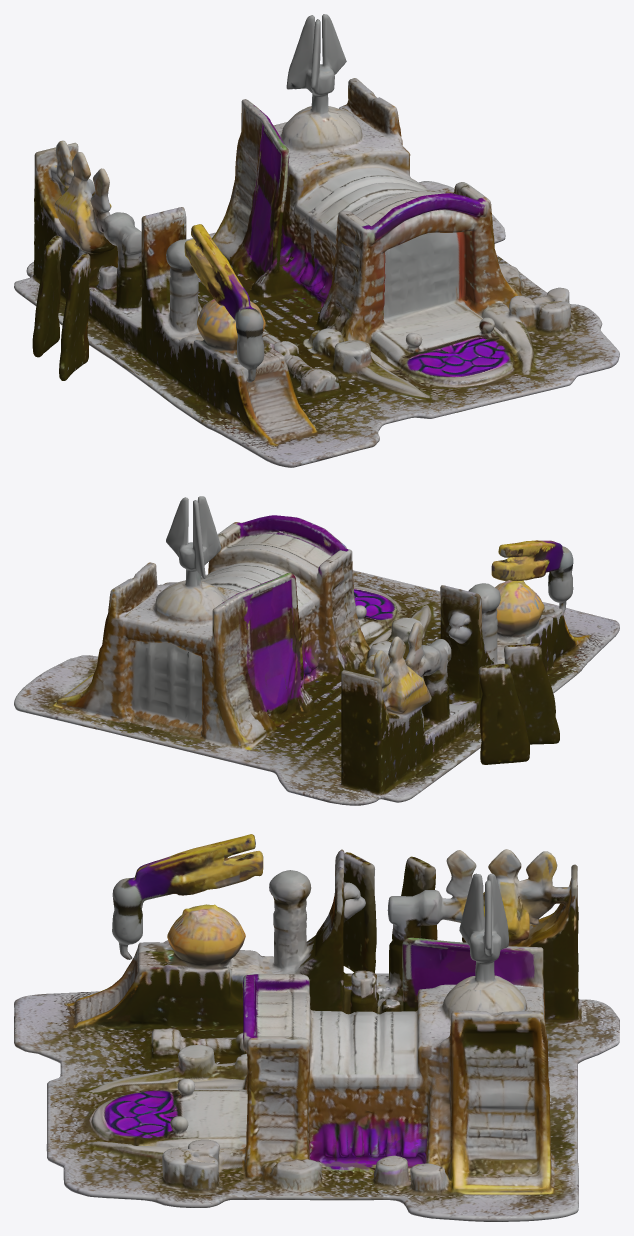
Rendered from YuriBase.fbx.
The picture shows the model from 3 angles, top to bottom: view 1: azimuth 30°, elevation 25°; view 2: azimuth 150°, elevation 25°; view 3: azimuth 270°, elevation 25°; orthographic projection. The views are drawn at different scales.
Parts seen in each view (by area): view 1: texture_pbr_v128.001; view 2: texture_pbr_v128.001; view 3: texture_pbr_v128.001.
Boxes of the visible parts, x1=… form: texture_pbr_v128.001: x1=14, y1=14, x2=619, y2=467; texture_pbr_v128.001: x1=14, y1=496, x2=619, y2=805; texture_pbr_v128.001: x1=14, y1=834, x2=619, y2=1221.
Size of the model in its own units: 90.37 by 41.42 by 87.84.
1 material, 1 textured.
